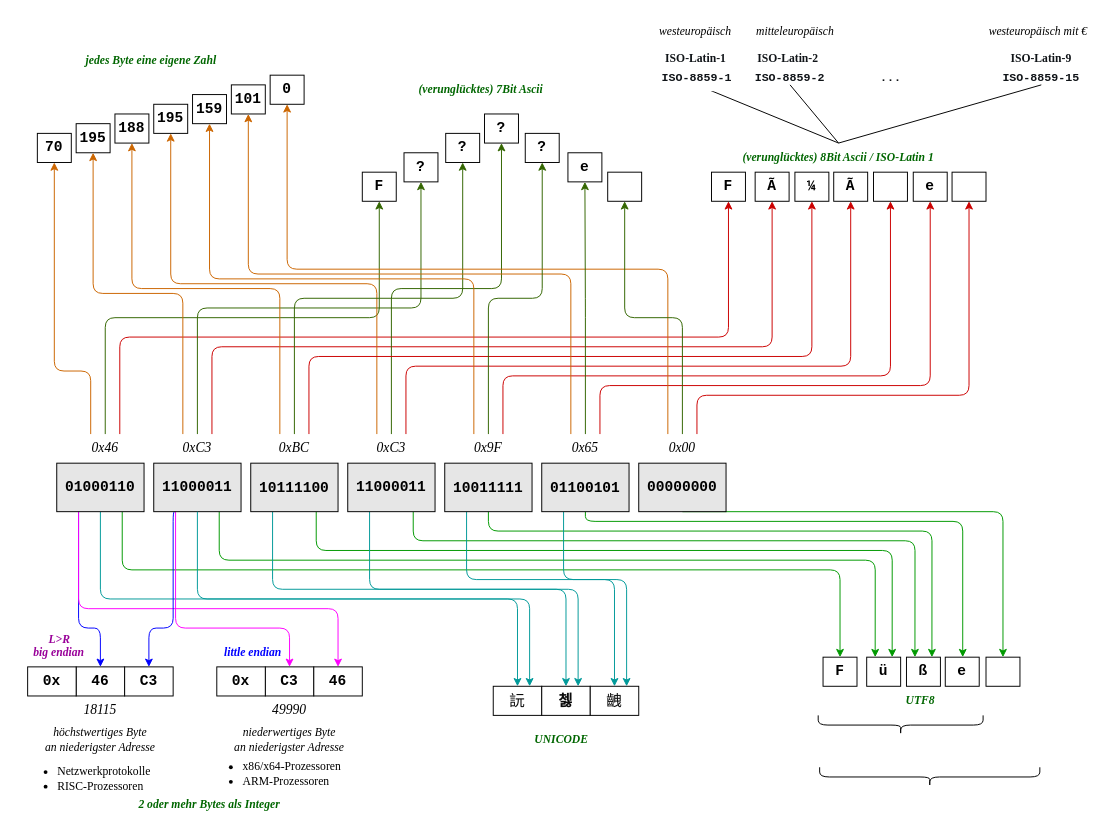
Some shapes in this 1115 by 835 pixel diagram are drawn without their labels. Here are the shapes that lost their labels. From the top down, the box of each, then its label:
(817, 714, 983, 735): PASCAL-String
(819, 766, 1040, 787): C-String
